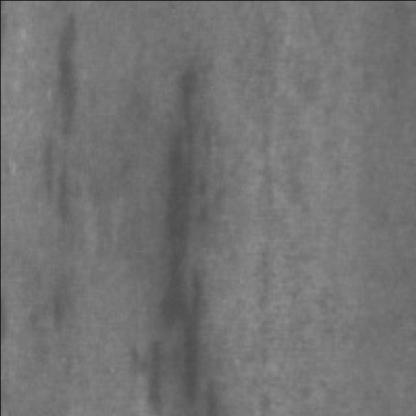inclusion: (133, 58, 214, 412), (42, 6, 90, 140), (31, 131, 77, 229)
